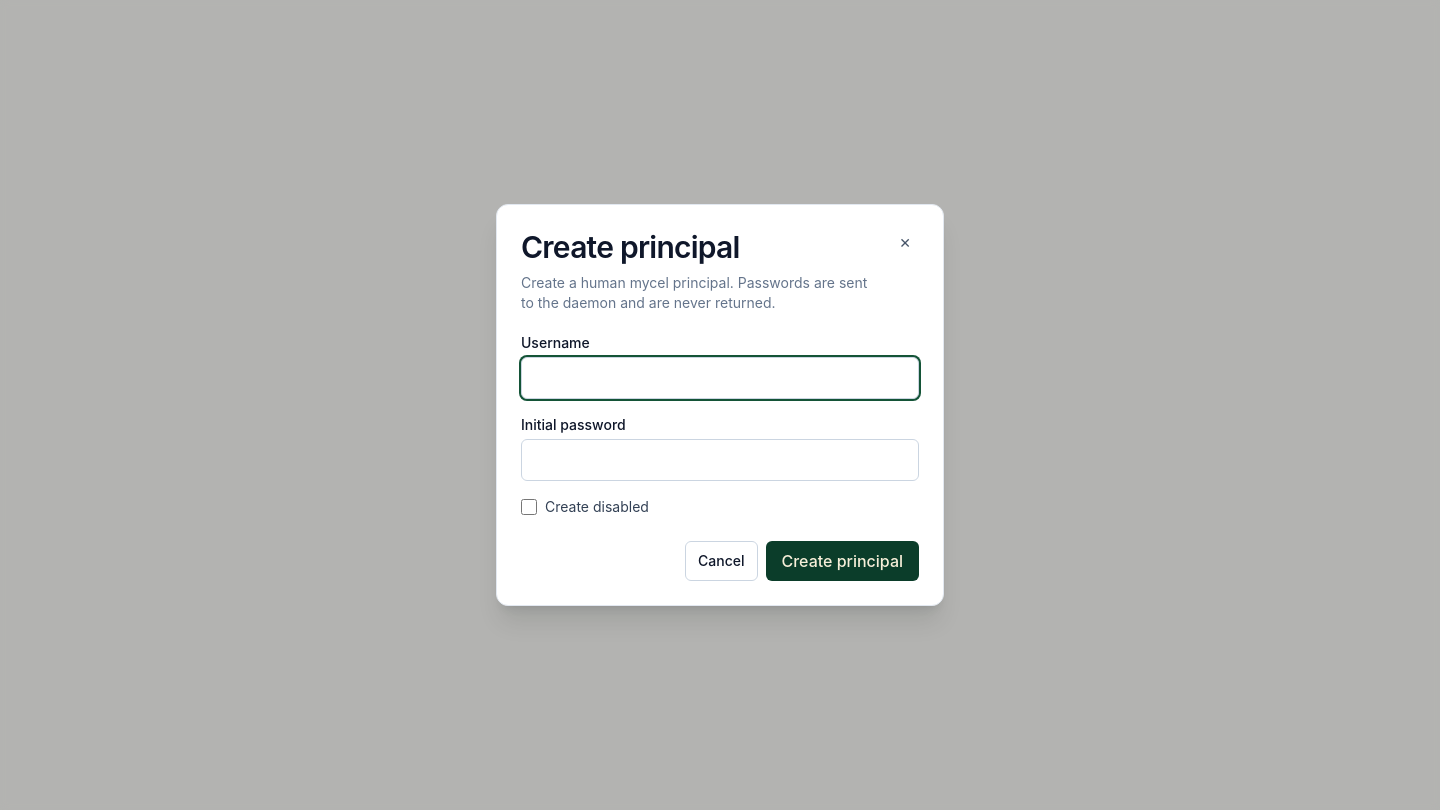
validates username
The image size is (1440, 810).
Click the button "Create principal" at (842, 561), box [766, 541, 919, 581]
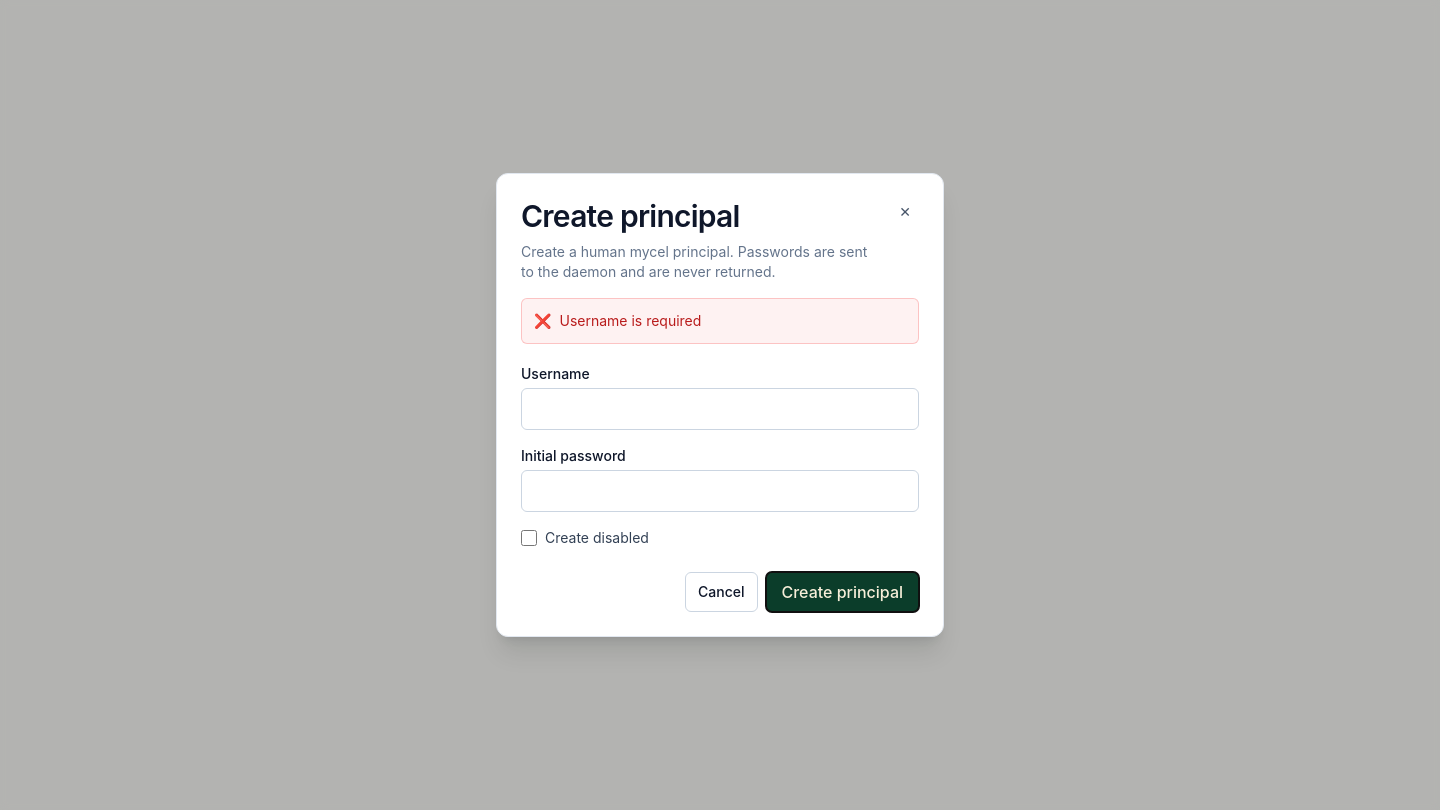
Check: the message shows "Username is required", box [560, 312, 701, 329]
